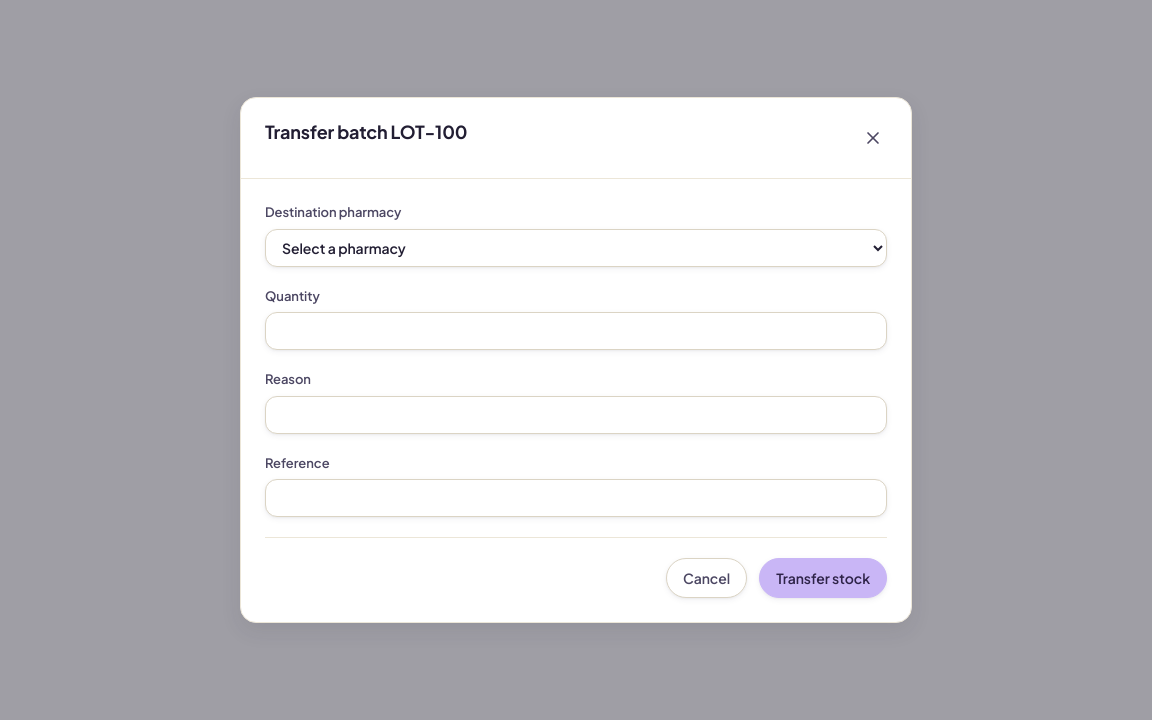
it: TransferBatchModal › renders backend destination pharmacy errors
Select "JMW Croydon" in the dropdown labelled "Destination pharmacy": (576, 248) top-left (265, 228), bottom-right (887, 266)
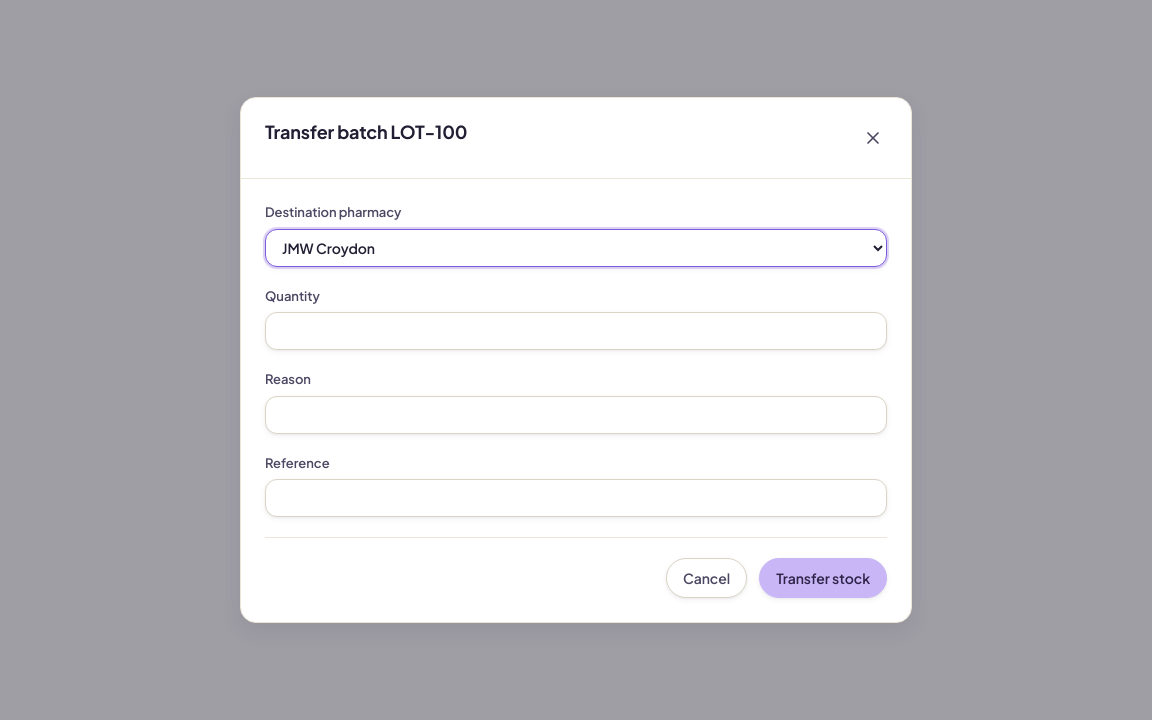
In the number field labelled "Quantity": (576, 331) top-left (265, 312), bottom-right (887, 350), type "4"
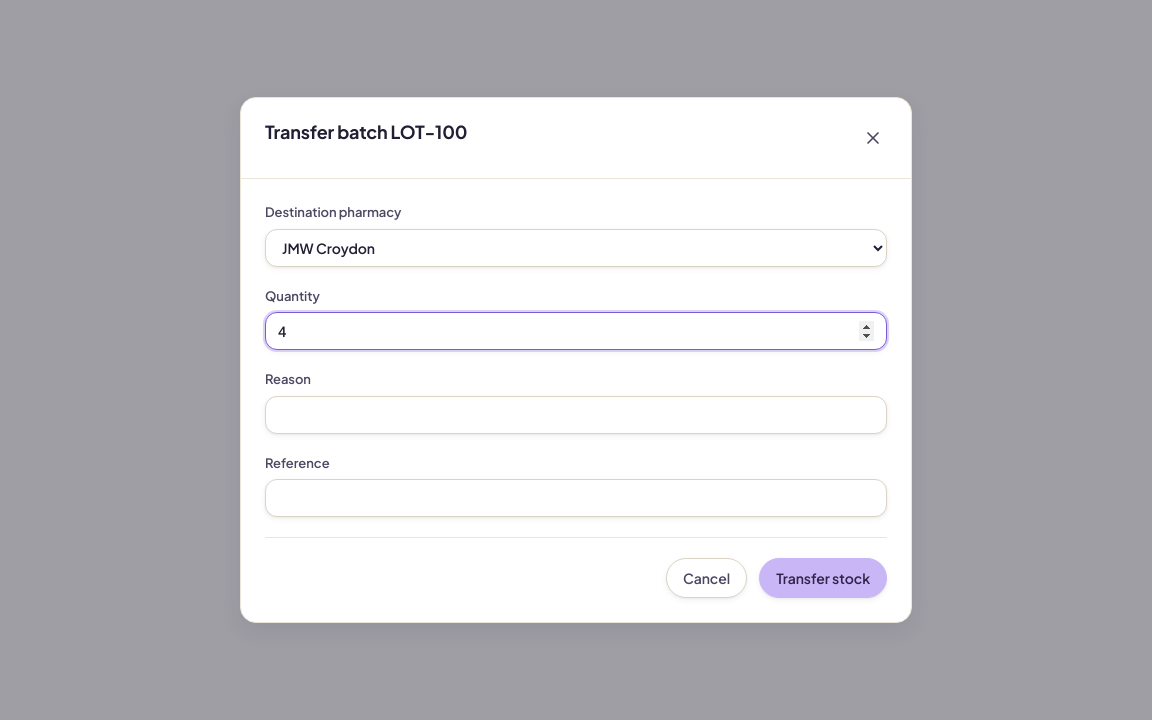
Click the button "Transfer stock": (823, 578) top-left (759, 558), bottom-right (887, 598)
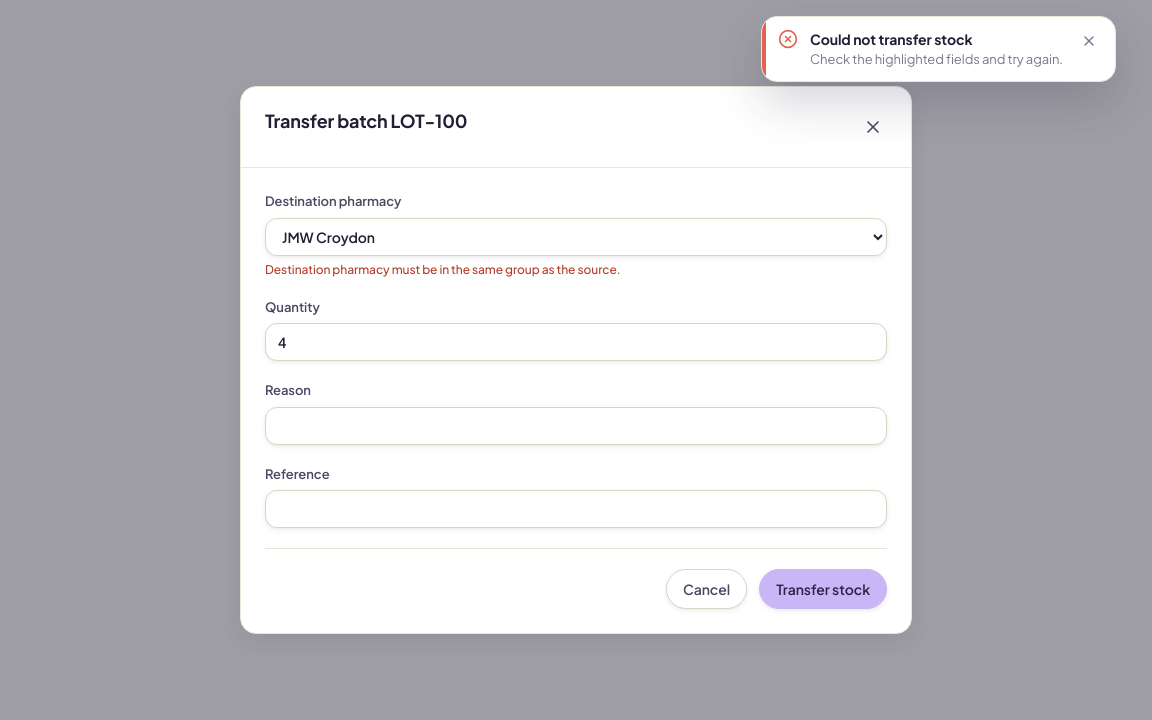
Now the list item "Destination pharmacy must be in the same group as the source." is shown, box top-left (265, 262), bottom-right (620, 276)
